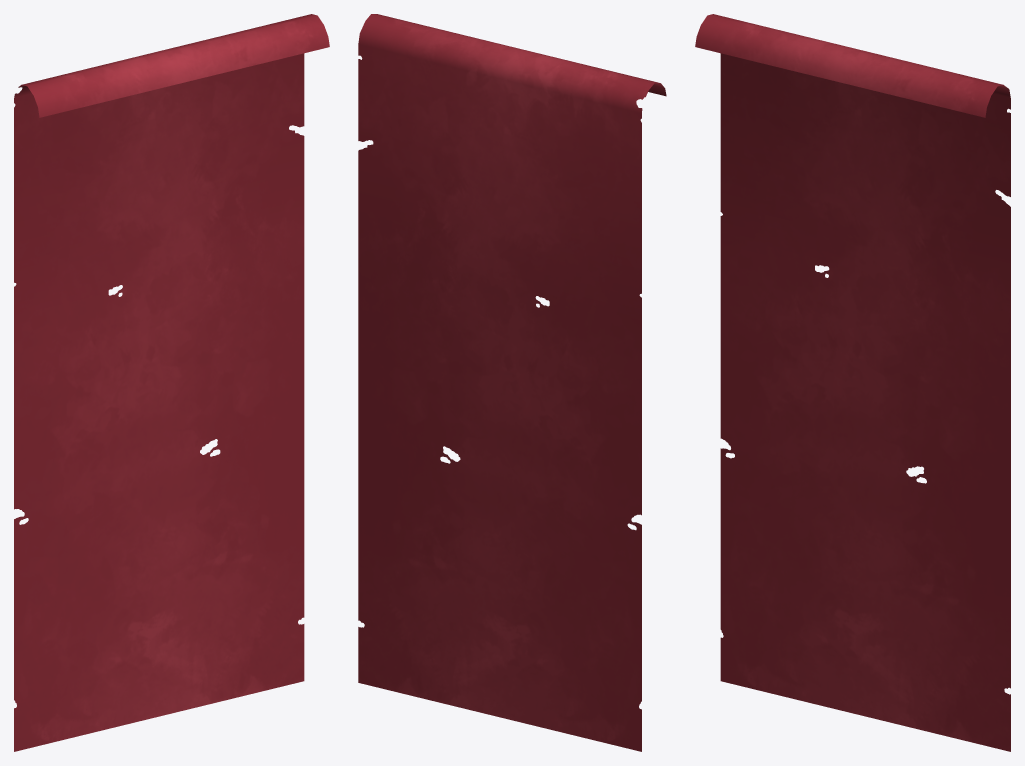
Rendered from PRM Banner.fbx.
The picture shows the model from 3 angles, left to right: view 1: azimuth 30°, elevation 25°; view 2: azimuth 150°, elevation 25°; view 3: azimuth 330°, elevation 25°; orthographic projection. The views are drawn at different scales.
Visible parts, largest first — view 1: Banner; view 2: Banner; view 3: Banner.
Boxes of the visible parts, bbox=[...] form: Banner: bbox=[14, 14, 329, 751]; Banner: bbox=[358, 14, 666, 751]; Banner: bbox=[695, 14, 1010, 751].
Bounding box in the file's own units: 296 × 657 × 44.81.
